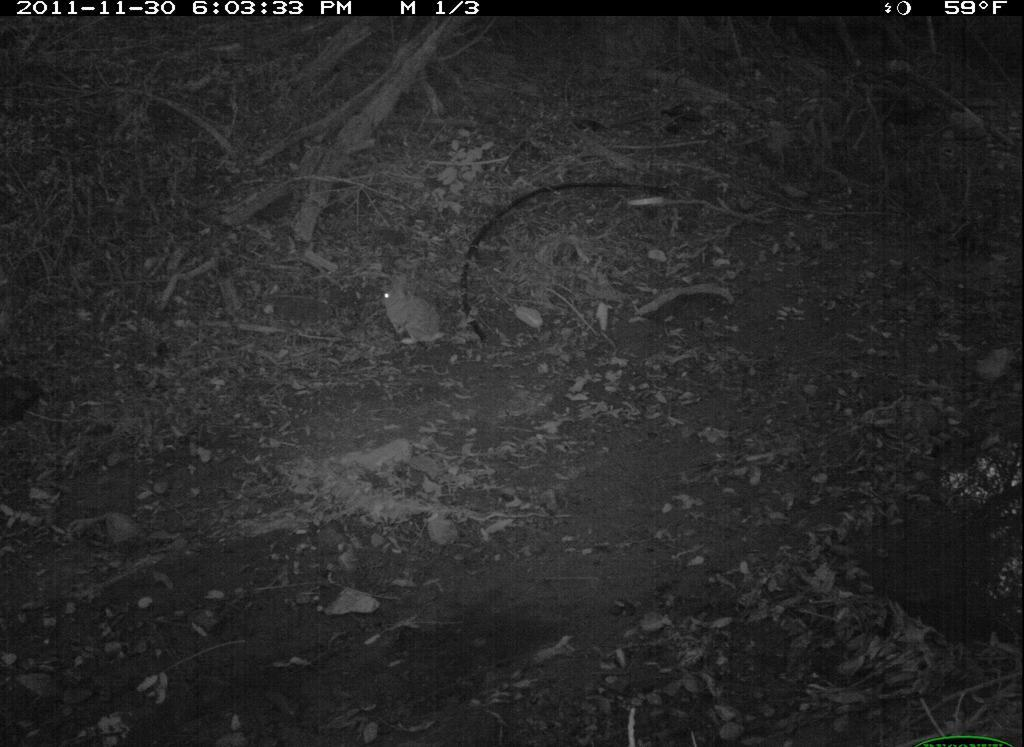rabbit: (369, 257, 461, 360)
